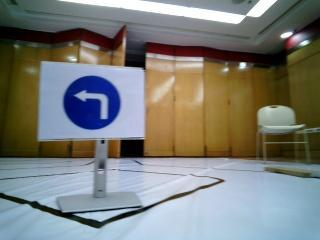left: (49, 62, 142, 139)
